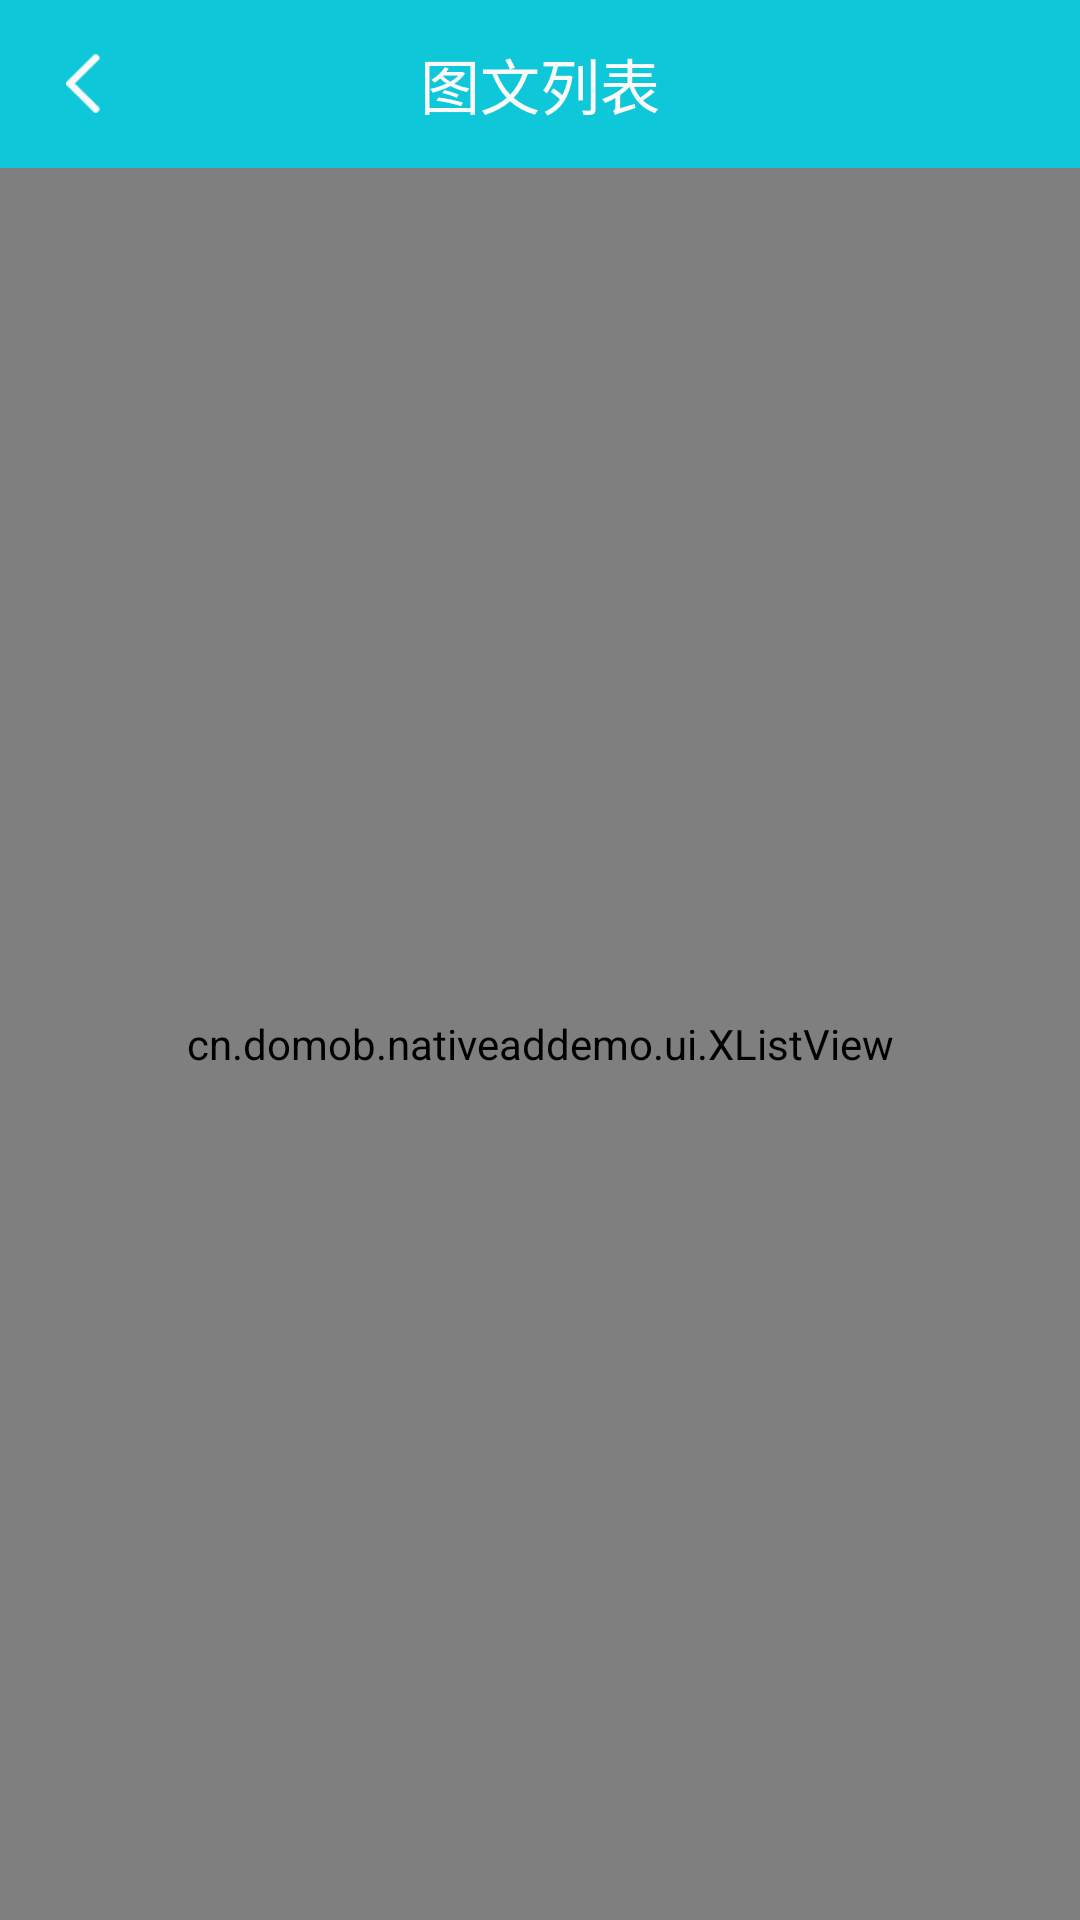

Locate icon controls on the screen. Image size 1080 × 1920, boxes as (x1, y1, x2, y2).
goback: (66, 54, 100, 113)
